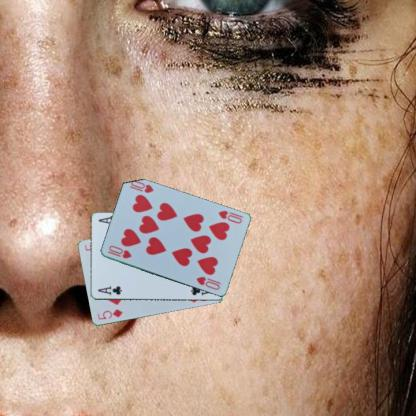10h: (215, 208, 243, 225), (105, 243, 132, 260)
5d: (95, 307, 124, 321)
Ac: (95, 284, 123, 296)
